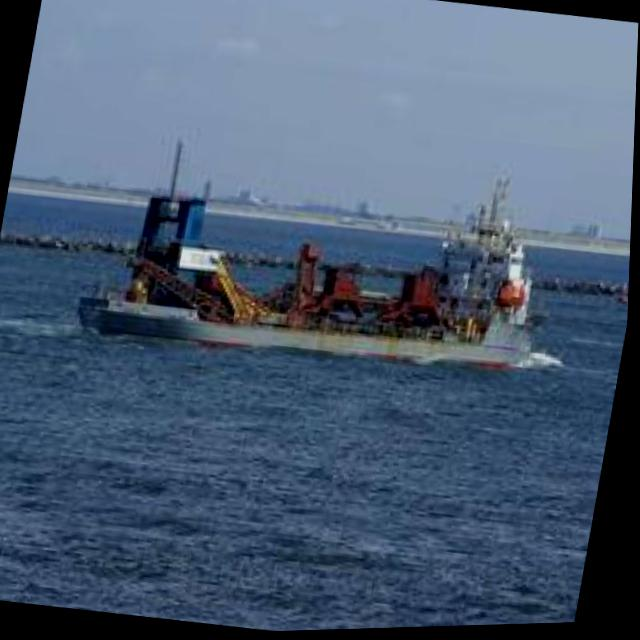ship2: (77, 138, 532, 369)
